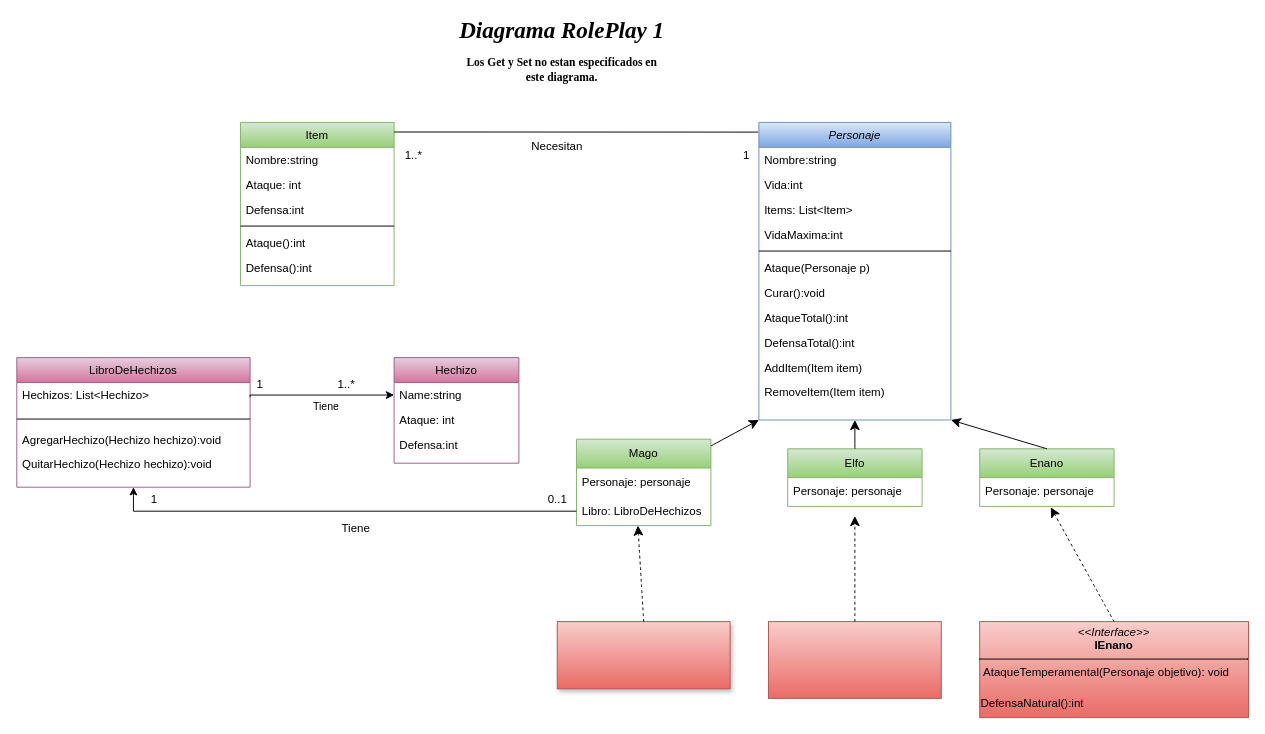
The diagram is 1265 pixels wide and 734 high, and some of its shapes have lost their labels. Each missing label, with the centre of its shape:
"<<Interface>> IAyudante Curar(Personaje p):void" goes at [854,659].
"<<Interface>> IMagia HechizoMagico():int" goes at [644,656].
